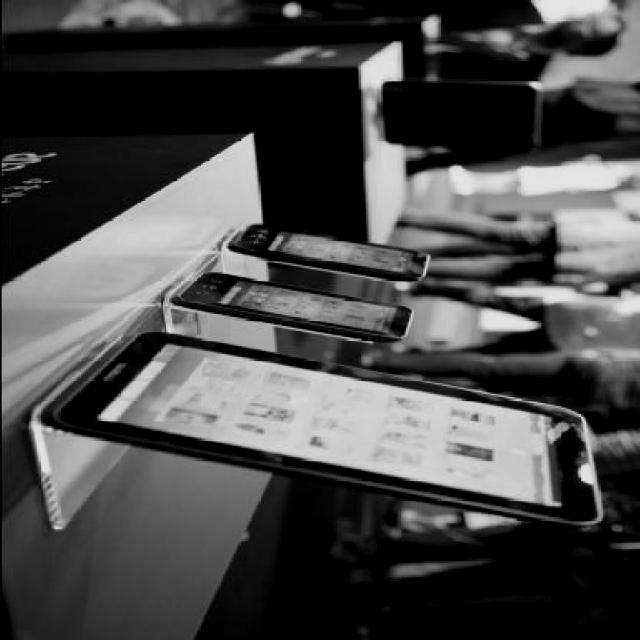fake: (32, 318, 602, 531), (170, 270, 415, 342), (226, 223, 429, 282)
